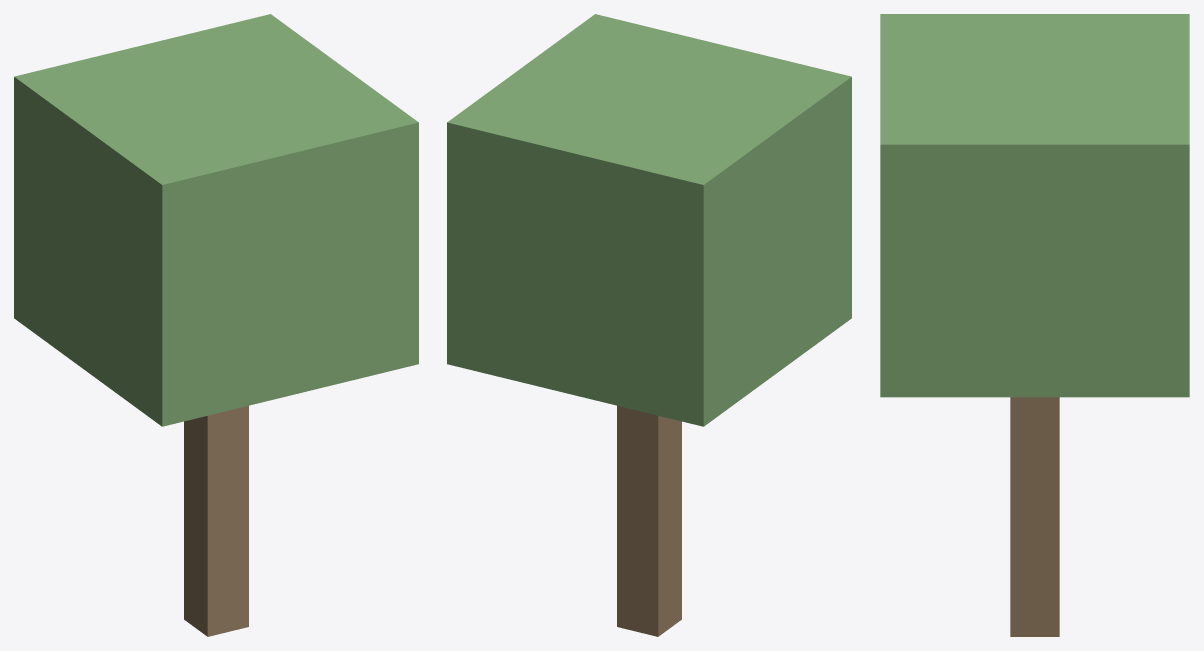
The model's file is tree.glb.
The picture shows the model from 3 angles, left to right: view 1: azimuth 30°, elevation 25°; view 2: azimuth 150°, elevation 25°; view 3: azimuth 270°, elevation 25°; orthographic projection. The views are drawn at different scales.
Visible parts, largest first — view 1: canopy, trunk; view 2: canopy, trunk; view 3: canopy, trunk.
Boxes of the visible parts, box(x1,y1,x2,y2) form: canopy: box(14, 14, 418, 426); trunk: box(184, 405, 248, 636); canopy: box(447, 14, 851, 426); trunk: box(617, 405, 681, 636); canopy: box(880, 14, 1189, 397); trunk: box(1010, 397, 1059, 636).
Size of the model in its own units: 1 by 1.95 by 1.
